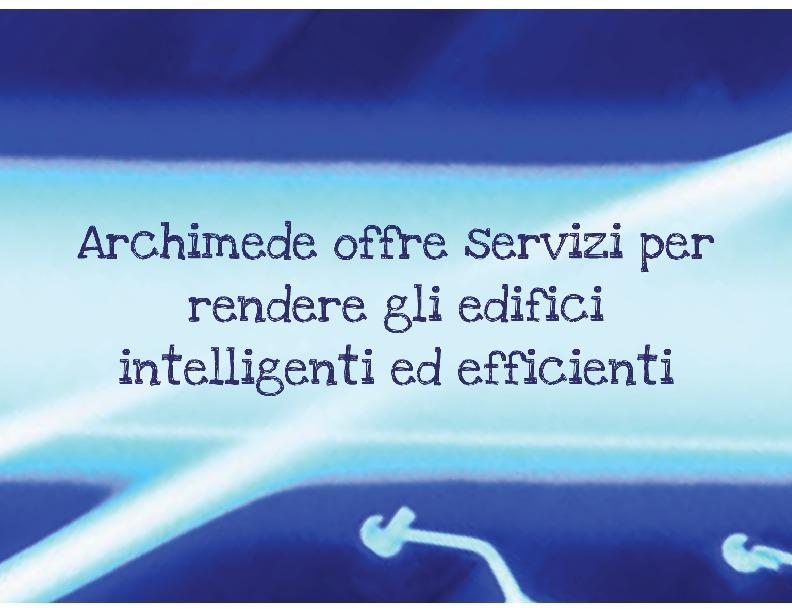title: (62, 195, 743, 424)
